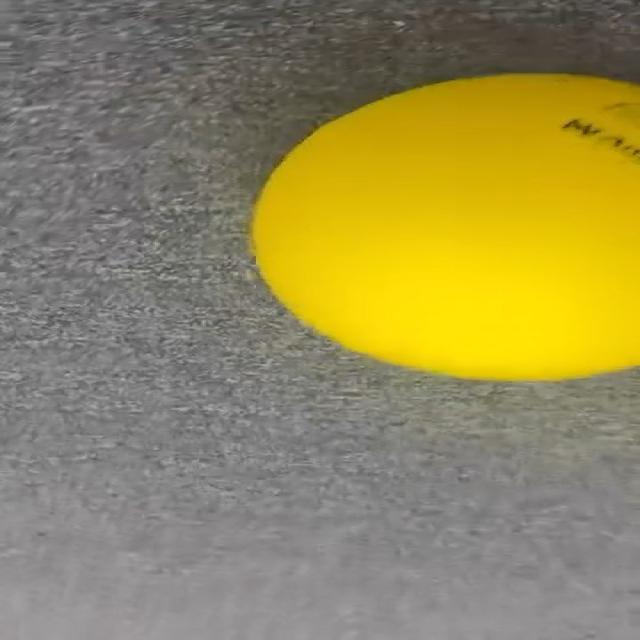Fuels: (245, 72, 640, 382)
